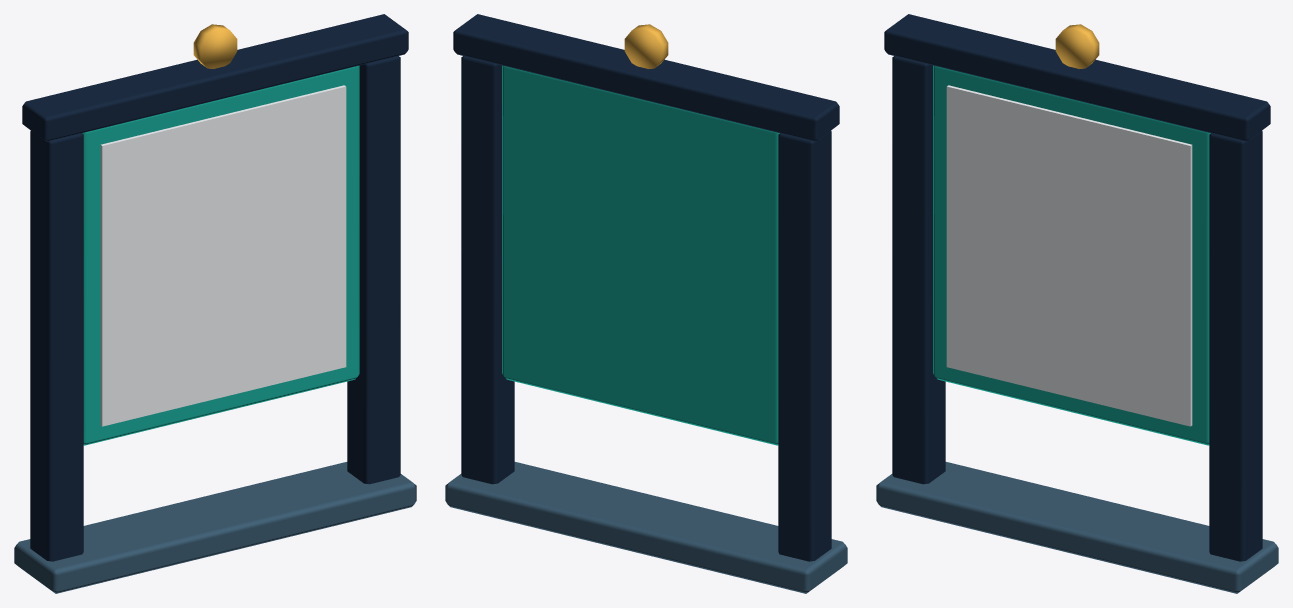
File: CM_Prop_PlazaSign.fbx
3 views of the same model, side by side, from view 1: azimuth 30°, elevation 25°; view 2: azimuth 150°, elevation 25°; view 3: azimuth 330°, elevation 25° (orthographic).
Visible parts, largest first — view 1: Body, Face; view 2: Body; view 3: Body, Face.
Boxes of the visible parts, x1,y1,x2,y2 form: Body: (14,14,416,593); Face: (100,85,346,426); Body: (445,14,847,593); Body: (876,14,1278,593); Face: (946,85,1192,426).
Size of the model in its own units: 6 by 1.2 by 8.
Materials: 1 (1 with a texture image).
